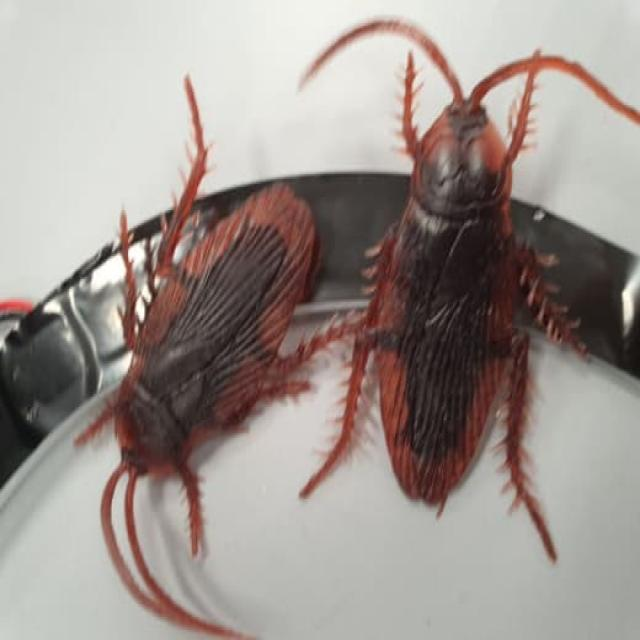Cockroach: (274, 18, 636, 535), (62, 70, 360, 627)
